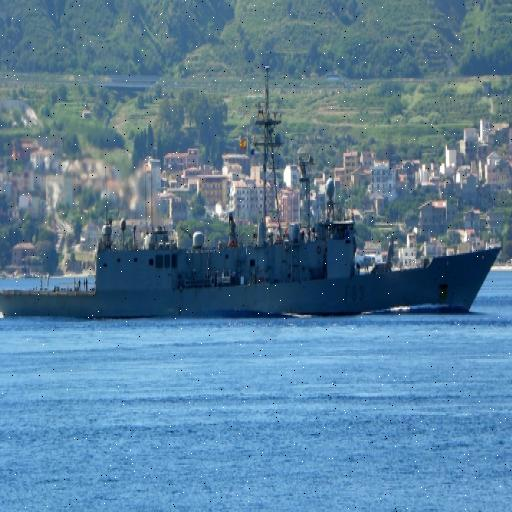Fragata: (1, 61, 509, 326)
